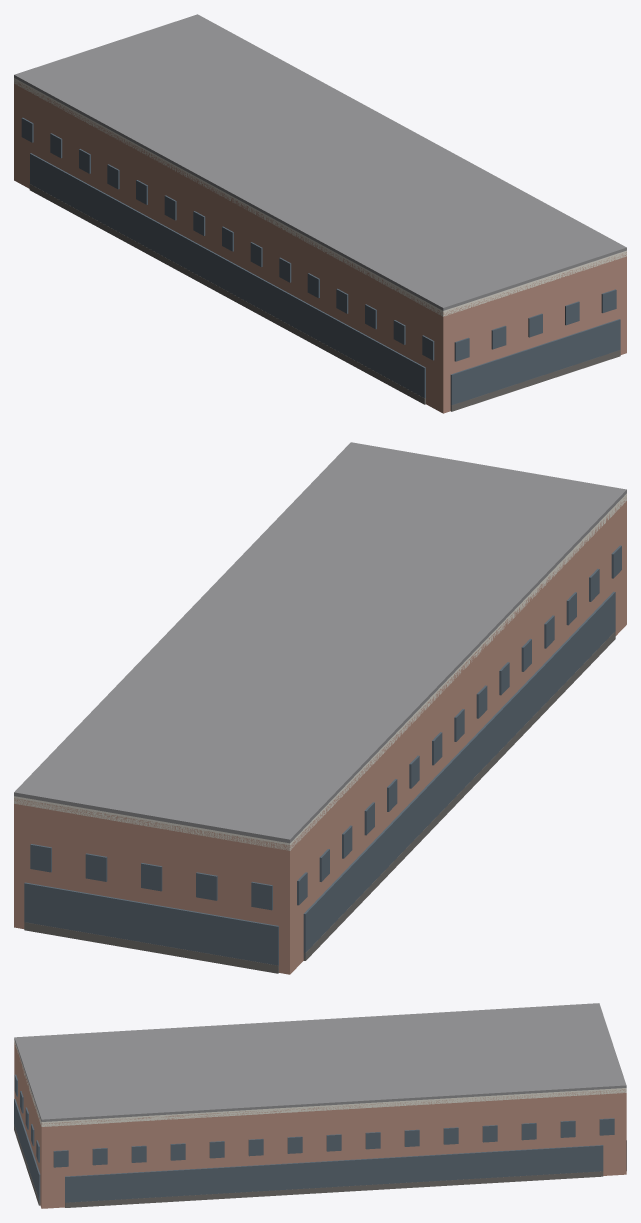
The model's file is s41_gis_248126_820567.glb.
3 views of the same model, one above another, from view 1: azimuth 30°, elevation 25°; view 2: azimuth 150°, elevation 25°; view 3: azimuth 270°, elevation 25° (orthographic). The views are drawn at different scales.
Visible parts, largest first — view 1: roofcap, mass, store_1, store_2, cornice, bulk_1, bulk_2; view 2: roofcap, mass, store_1, store_0, cornice, bulk_1, bulk_0; view 3: roofcap, mass, store_3, cornice, bulk_3, store_2.
Part boxes in pixels (x1=…): roofcap: x1=14, y1=14, x2=626, y2=310; mass: x1=14, y1=80, x2=626, y2=413; store_1: x1=30, y1=153, x2=425, y2=398; store_2: x1=450, y1=319, x2=620, y2=408; cornice: x1=14, y1=78, x2=626, y2=316; bulk_1: x1=29, y1=184, x2=425, y2=404; bulk_2: x1=450, y1=350, x2=620, y2=411; roofcap: x1=14, y1=442, x2=626, y2=843; mass: x1=14, y1=498, x2=626, y2=974; store_1: x1=303, y1=591, x2=615, y2=957; store_0: x1=24, y1=882, x2=278, y2=969; cornice: x1=14, y1=493, x2=626, y2=850; bulk_1: x1=303, y1=631, x2=615, y2=960; bulk_0: x1=24, y1=922, x2=278, y2=973; roofcap: x1=14, y1=1003, x2=626, y2=1121; mass: x1=14, y1=1042, x2=626, y2=1208; store_3: x1=65, y1=1145, x2=603, y2=1202; cornice: x1=14, y1=1040, x2=626, y2=1126; bulk_3: x1=65, y1=1171, x2=603, y2=1207; store_2: x1=14, y1=1099, x2=40, y2=1200.
Size of the model in its own units: 23.39 by 8.35 by 51.99.
